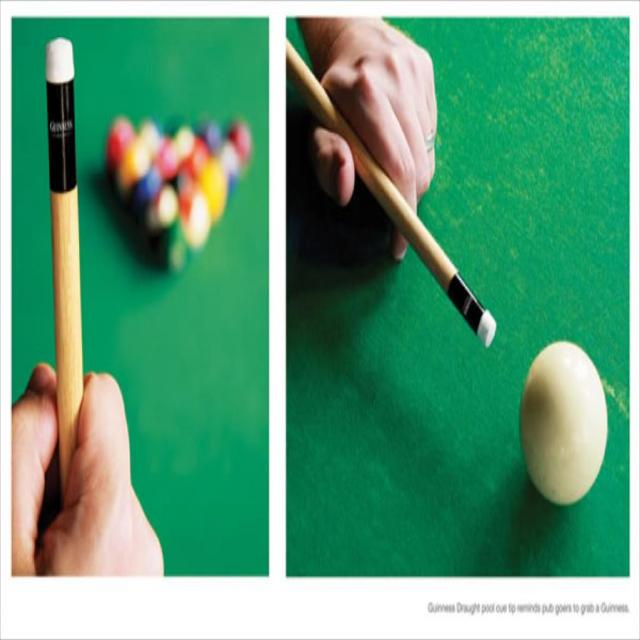Billiard table: (287, 11, 631, 578), (11, 21, 270, 577)
